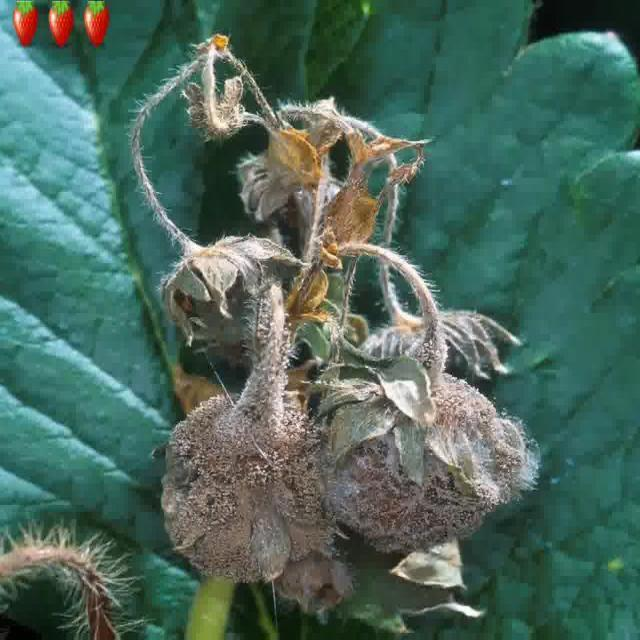Moho gris: (327, 334, 533, 572), (154, 364, 330, 608)
